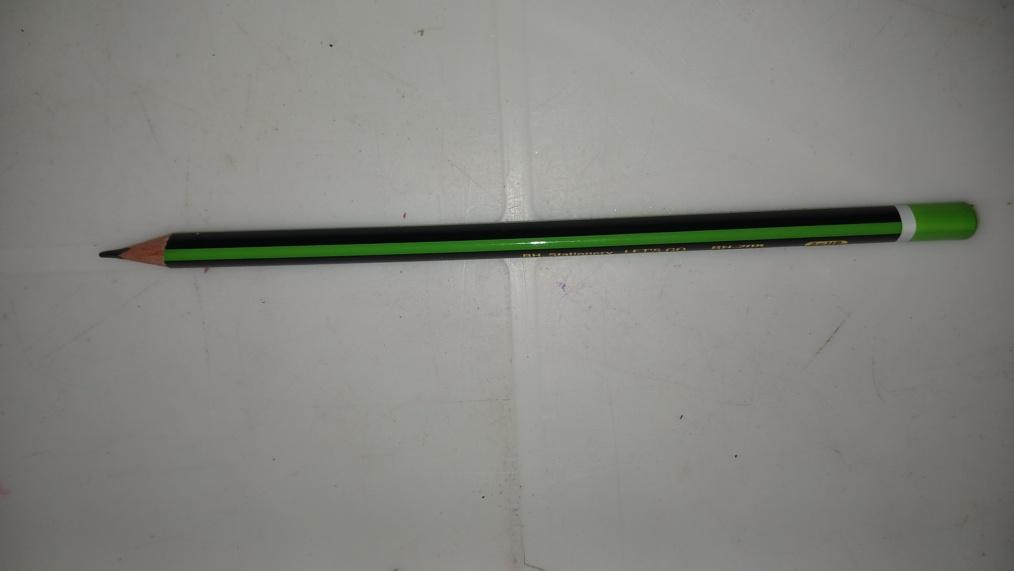Pencil: (94, 199, 980, 272)
